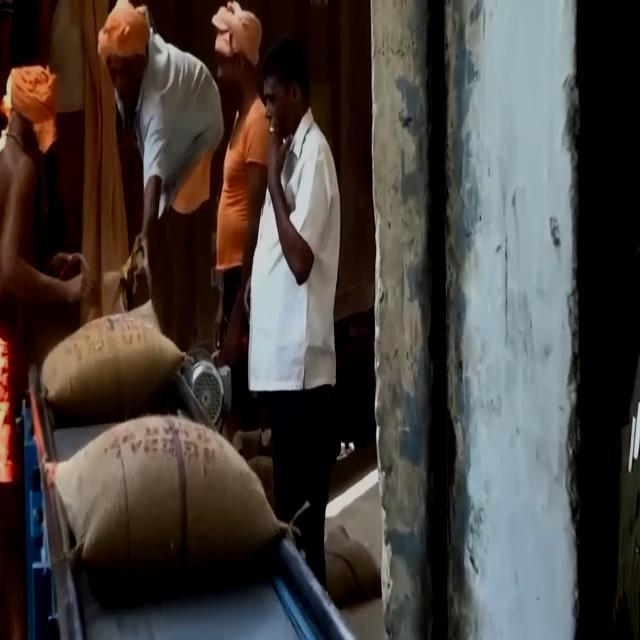gunny_bag: (42, 412, 292, 602), (33, 295, 190, 420)
